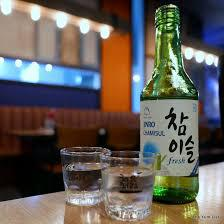soju: (140, 5, 203, 203)
